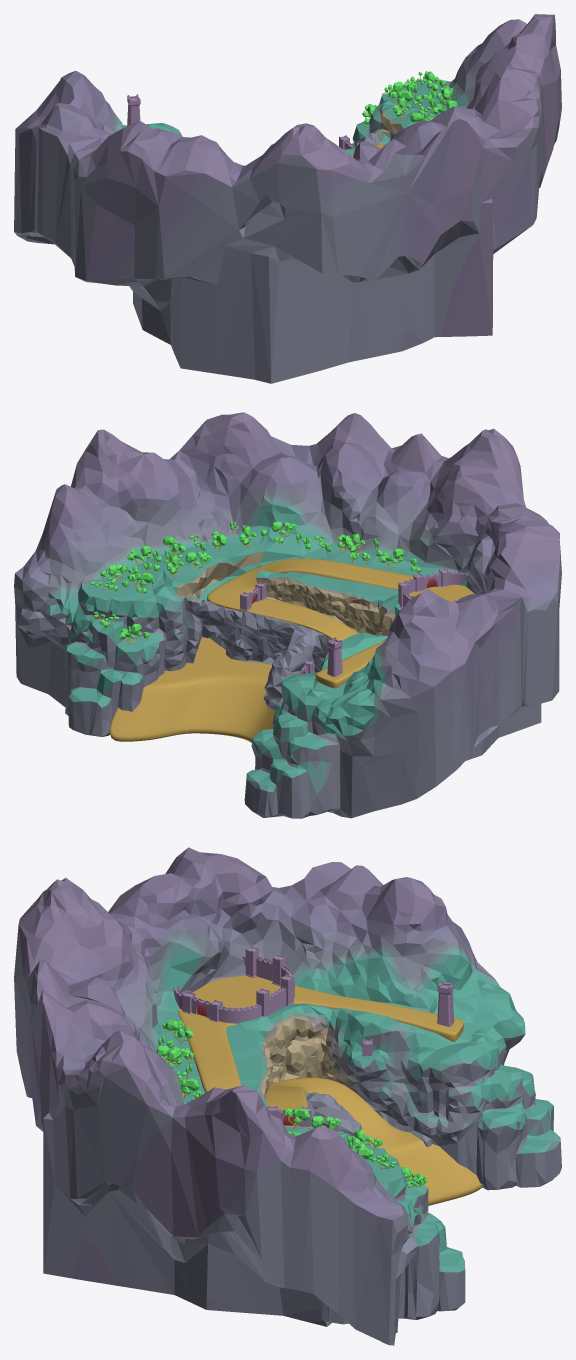
File: TerrainTest.fbx
3 views of the same model, one above another, from view 1: azimuth 30°, elevation 25°; view 2: azimuth 150°, elevation 25°; view 3: azimuth 270°, elevation 25° (orthographic). The views are drawn at different scales.
Parts seen in each view (by area): view 1: TerrainDecimated; view 2: TerrainDecimated, Path2.001, Cube.007; view 3: TerrainDecimated, Path2.001, Cube.007, Cube.012.
Part boxes in pixels (<box>): TerrainDecimated: <box>14,14,561,383</box>; TerrainDecimated: <box>14,412,561,818</box>; Path2.001: <box>109,558,474,742</box>; Cube.007: <box>327,637,342,676</box>; TerrainDecimated: <box>14,847,561,1345</box>; Path2.001: <box>178,976,482,1205</box>; Cube.007: <box>437,980,454,1026</box>; Cube.012: <box>219,1004,261,1023</box>.
Size of the model in its own units: 40772 by 20091 by 33920.
